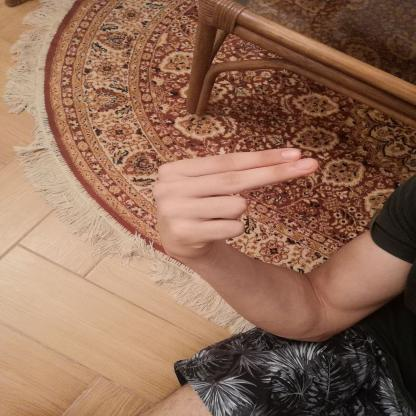AYN: (144, 138, 335, 264)
